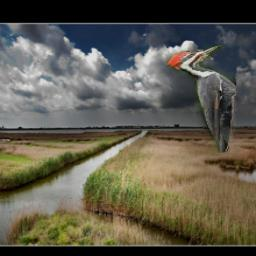Woodpecker: (166, 45, 236, 153)
